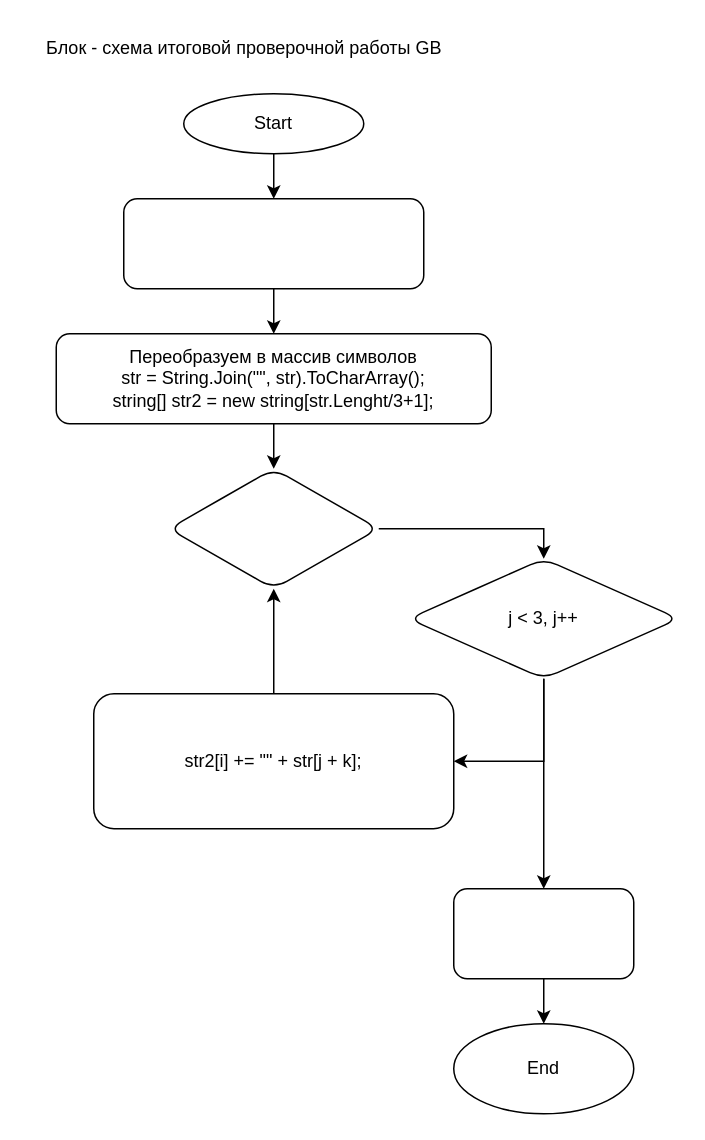
Image size: 705x1140. Some labels were removed from this diagram. Here are the shapes that lost their labels. From the top down, the centre of each, then its label:
pixel 273 243: Вводим массивы строк Console.ReadLine().Split(" ");
pixel 273 528: i < str.Lenght, I++
pixel 543 933: Print(str2)
